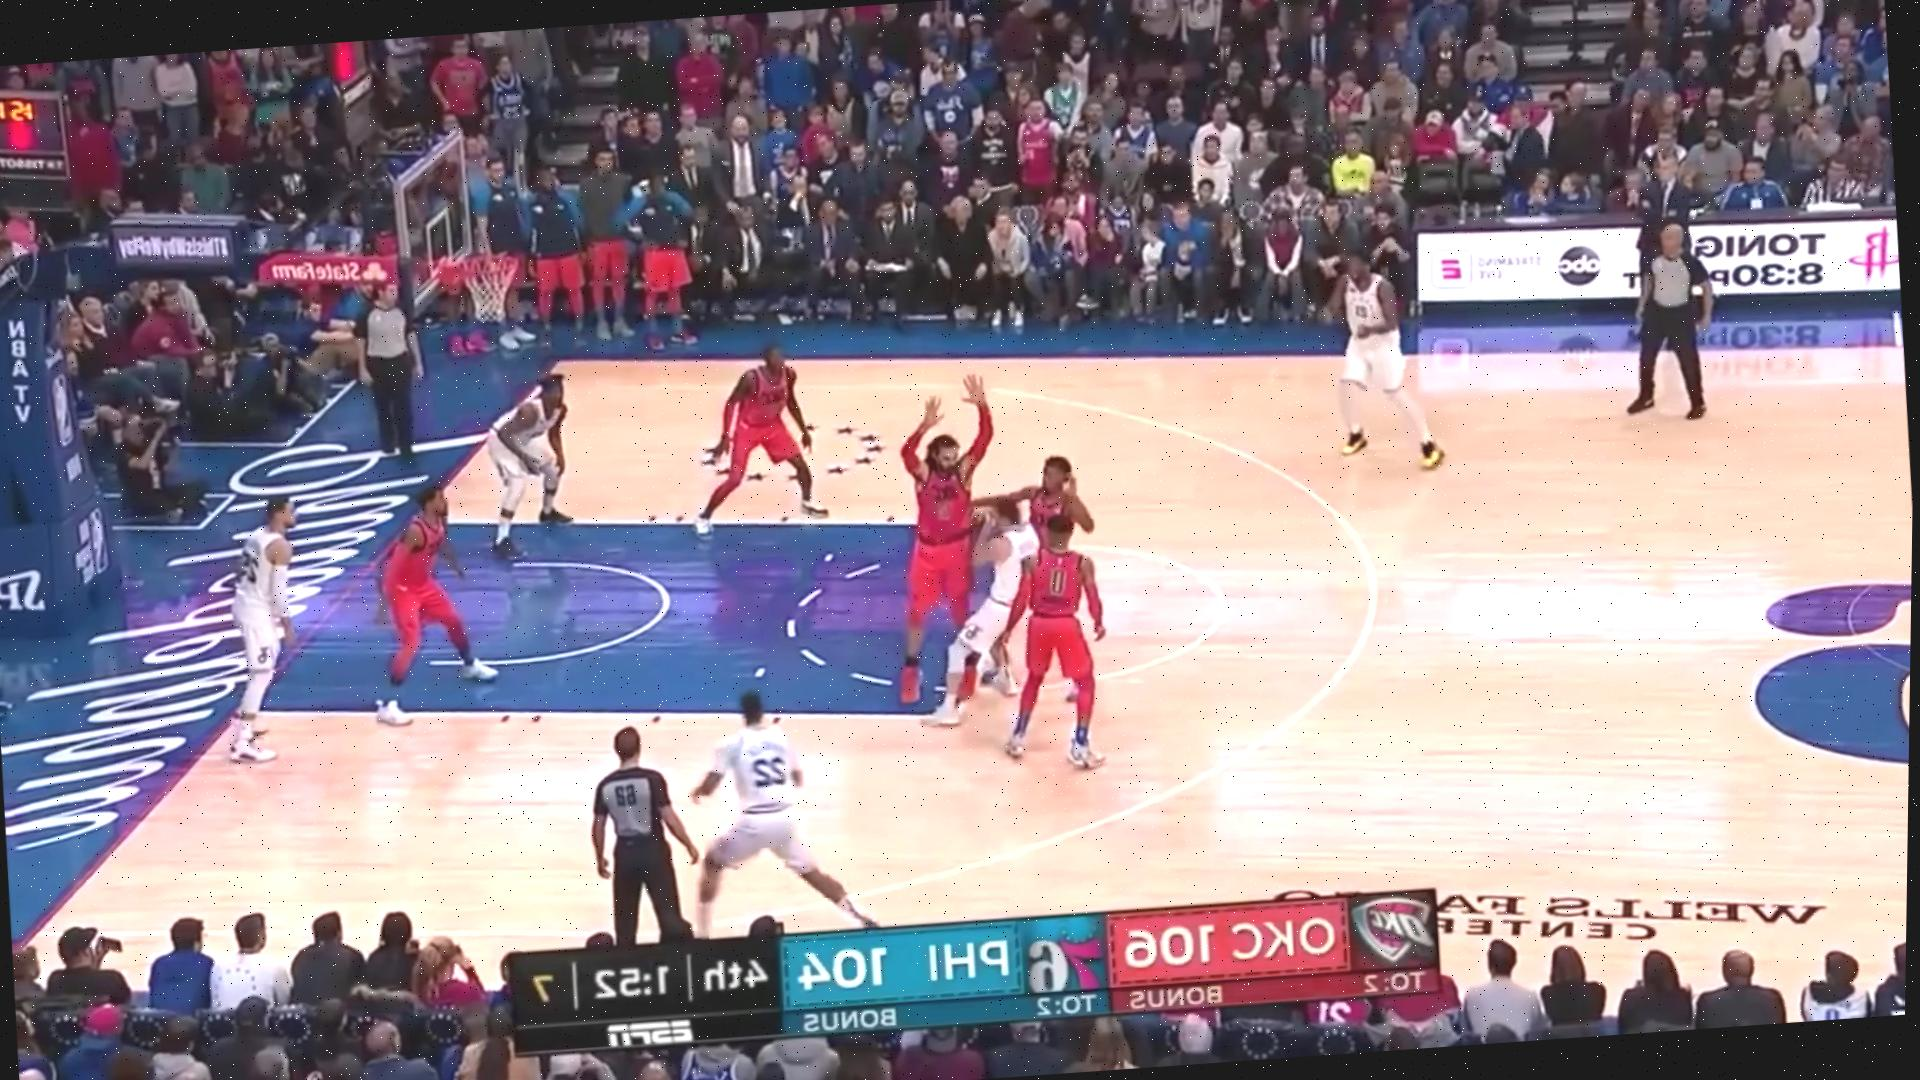no_foul: (851, 407, 1117, 735)
